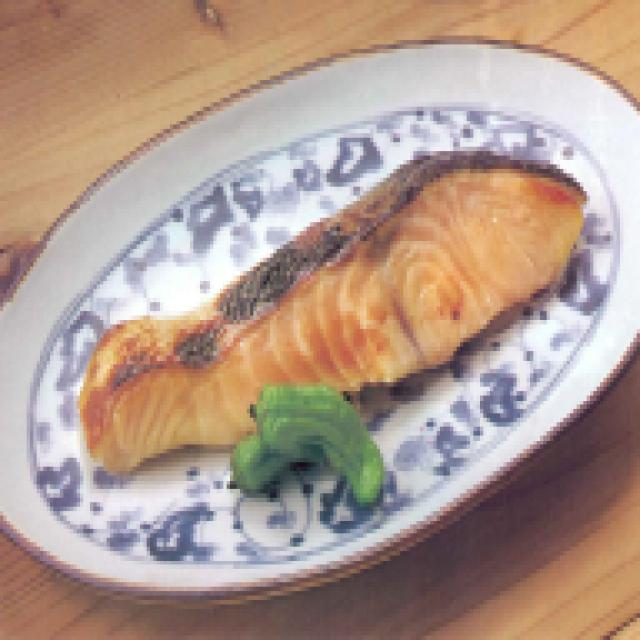熟制海鲜: (54, 125, 584, 511)
